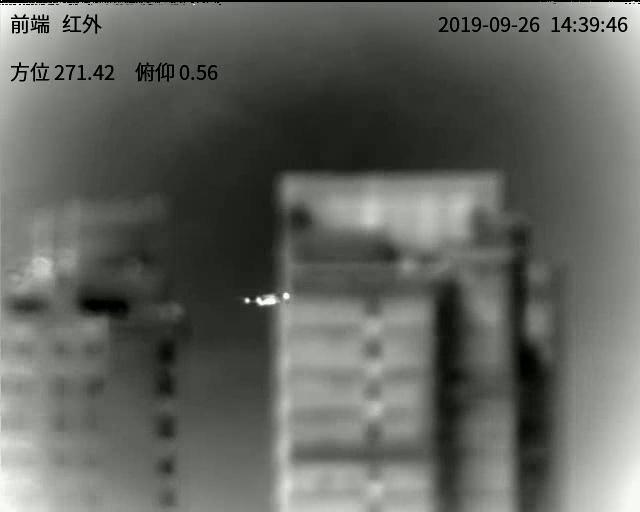DRONE: (242, 290, 295, 308)
